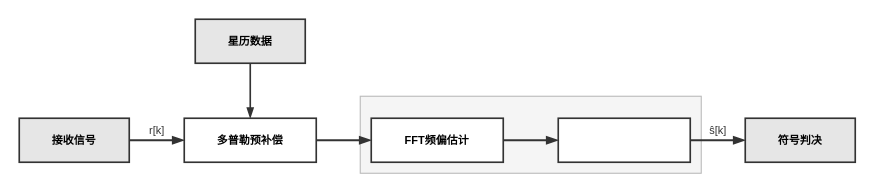
The diagram is 876 pixels wide and 194 high, and some of its shapes have lost their labels. Here are the shapes that lost their labels. From the top down, the box of each, then its label:
(359, 95, 701, 173): 载波同步
(557, 117, 691, 163): 载波相位恢复
